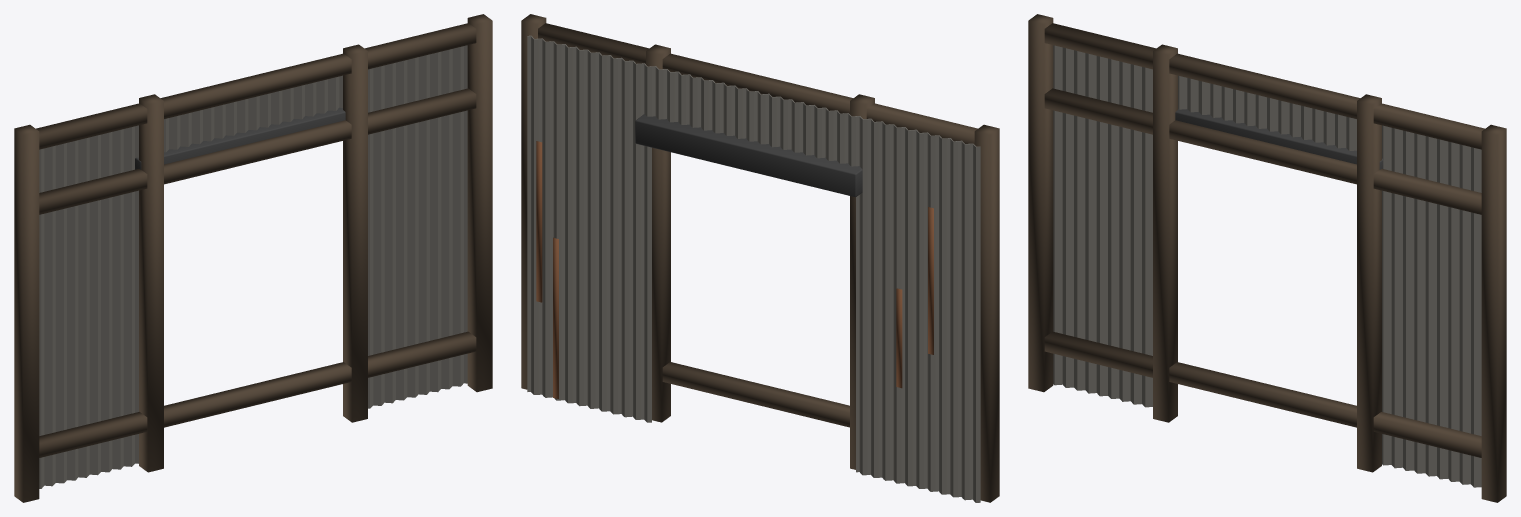
File: wall.glb
The picture shows the model from 3 angles, left to right: view 1: azimuth 30°, elevation 25°; view 2: azimuth 150°, elevation 25°; view 3: azimuth 330°, elevation 25°; orthographic projection.
Parts seen in each view (by area): view 1: sheet.001, sheet, post.001, post.004, rail.010, rail.008, post.002, post.003, rail.009, header, frame_top; view 2: sheet, sheet.001, header, post.001, rail.010, frame_top, post.003, rail.008, post.004, post.002, rust.003, rust (+2 smaller); view 3: sheet, sheet.001, post.004, post.001, rail.010, rail.008, post.003, post.002, rail.009, header, frame_top.
Part boxes in pixels (x1=…): sheet.001: x1=368, y1=45, x2=467, y2=408; sheet: x1=39, y1=125, x2=138, y2=488; post.001: x1=14, y1=124, x2=39, y2=502; post.004: x1=467, y1=14, x2=492, y2=392; rail.010: x1=36, y1=23, x2=476, y2=149; rail.008: x1=39, y1=331, x2=476, y2=457; post.002: x1=139, y1=94, x2=163, y2=472; post.003: x1=343, y1=44, x2=367, y2=422; rail.009: x1=39, y1=88, x2=476, y2=214; header: x1=164, y1=75, x2=342, y2=152; frame_top: x1=135, y1=107, x2=345, y2=169; sheet: x1=856, y1=116, x2=980, y2=502; sheet.001: x1=527, y1=35, x2=651, y2=422; header: x1=652, y1=66, x2=855, y2=166; post.001: x1=974, y1=124, x2=999, y2=502; rail.010: x1=538, y1=23, x2=977, y2=144; frame_top: x1=635, y1=114, x2=862, y2=197; post.003: x1=646, y1=44, x2=670, y2=422; rail.008: x1=662, y1=362, x2=849, y2=427; post.004: x1=521, y1=14, x2=546, y2=389; post.002: x1=850, y1=94, x2=874, y2=469; rust.003: x1=536, y1=141, x2=542, y2=302; rust: x1=553, y1=237, x2=558, y2=398; sheet: x1=1053, y1=45, x2=1152, y2=407; sheet.001: x1=1382, y1=125, x2=1481, y2=487; post.004: x1=1481, y1=124, x2=1506, y2=502; post.001: x1=1028, y1=14, x2=1053, y2=392; rail.010: x1=1044, y1=23, x2=1484, y2=149; rail.008: x1=1044, y1=331, x2=1481, y2=457; post.003: x1=1357, y1=94, x2=1381, y2=472; post.002: x1=1153, y1=44, x2=1177, y2=422; rail.009: x1=1044, y1=88, x2=1481, y2=214; header: x1=1178, y1=75, x2=1356, y2=150; frame_top: x1=1175, y1=109, x2=1383, y2=169.
Bounding box in the file's own units: 4.14 × 3.1 × 0.3.
